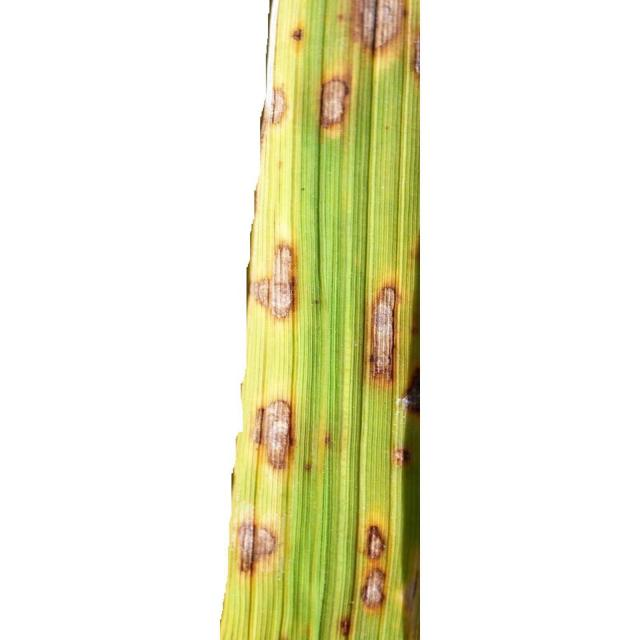Brown spot: (238, 389, 309, 473), (242, 232, 303, 321), (324, 0, 418, 57), (364, 275, 406, 379), (310, 64, 362, 146), (232, 518, 286, 595), (256, 80, 290, 140), (351, 506, 388, 561), (348, 570, 397, 610), (331, 602, 358, 640), (314, 426, 334, 462), (278, 24, 308, 47)
